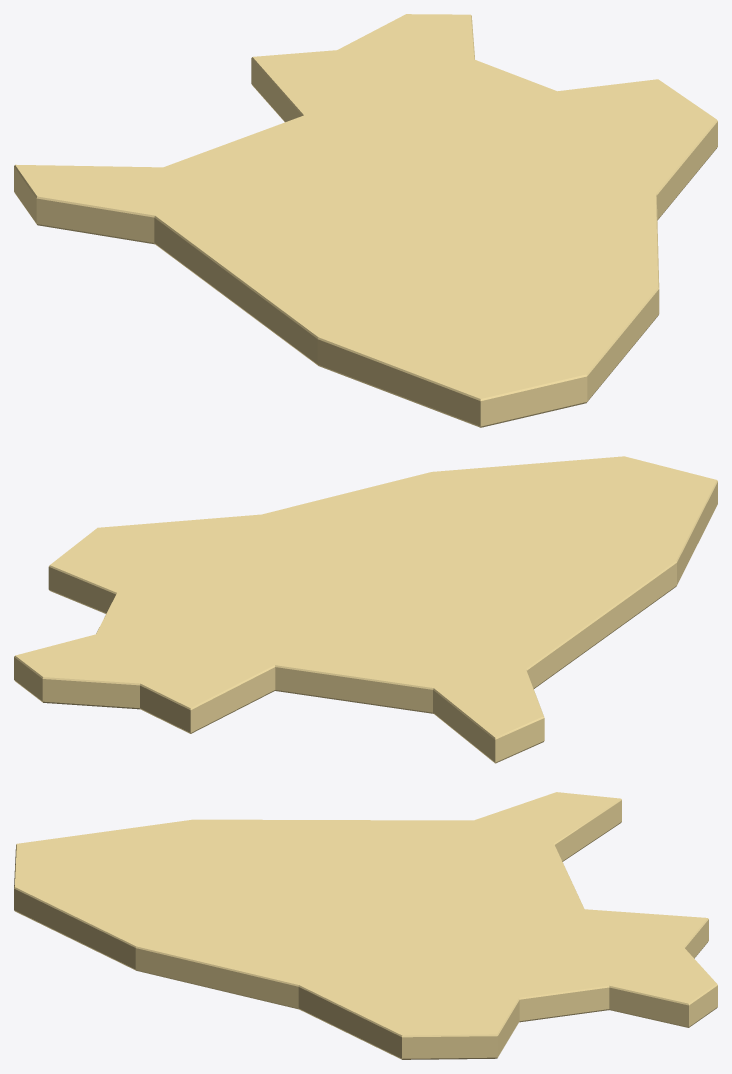
The model's file is BDI.glb.
The picture shows the model from 3 angles, top to bottom: view 1: azimuth 30°, elevation 25°; view 2: azimuth 150°, elevation 25°; view 3: azimuth 270°, elevation 25°; orthographic projection. The views are drawn at different scales.
Bounding box in the file's own units: 1.46 × 0.068 × 1.78.
